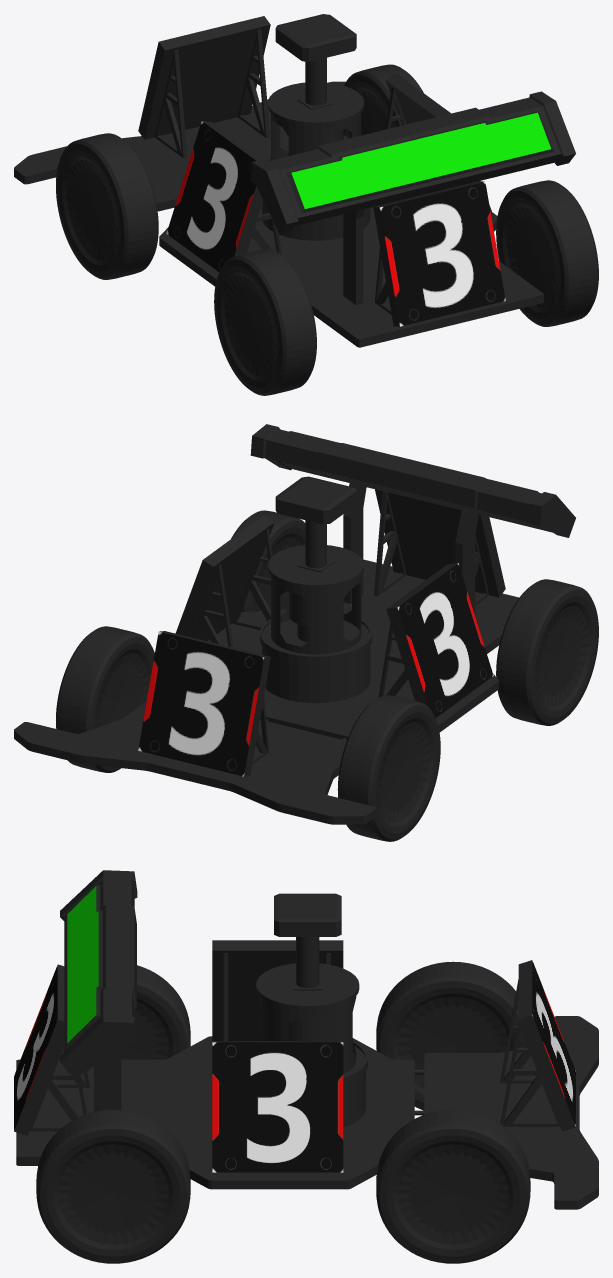
File: CarRed.glb
The picture shows the model from 3 angles, top to bottom: view 1: azimuth 30°, elevation 25°; view 2: azimuth 150°, elevation 25°; view 3: azimuth 270°, elevation 25°; orthographic projection. The views are drawn at different scales.
Parts seen in each view (by area): view 1: Cylinder.001, Cube.003, Cylinder, plate_front.001, Cube.002, plate_front.002, plate_front, Cube.001, Cylinder.003, Cube.011, Cube.004, Plane.001 (+4 smaller); view 2: Cylinder, Cube.001, plate_front, Cylinder.001, Cube.003, Cube.002, plate_front.002, Cylinder.003, Cylinder.002, plate_front.001, plate_front.003, Cube.004 (+7 smaller); view 3: Cylinder, Cylinder.001, Cube.002, plate_front.003, Cube.001, Cube.003, plate_front.002, Cylinder.003, plate_front, plate_front.001, Cube.011, Plane.001 (+7 smaller).
Boxes of the visible parts, x1=… form: Cylinder.001: x1=214, y1=180, x2=598, y2=395; Cube.003: x1=250, y1=91, x2=575, y2=233; Cylinder: x1=56, y1=64, x2=423, y2=279; plate_front.001: x1=373, y1=181, x2=505, y2=326; Cube.002: x1=159, y1=203, x2=543, y2=347; plate_front.002: x1=166, y1=121, x2=263, y2=272; plate_front: x1=138, y1=16, x2=270, y2=139; Cube.001: x1=14, y1=81, x2=348, y2=211; Cylinder.003: x1=268, y1=82, x2=363, y2=160; Cube.011: x1=275, y1=14, x2=356, y2=61; Cube.004: x1=343, y1=209, x2=364, y2=305; Plane.001: x1=237, y1=29, x2=270, y2=138; Cylinder: x1=56, y1=626, x2=440, y2=841; Cube.001: x1=14, y1=701, x2=376, y2=824; plate_front: x1=138, y1=631, x2=270, y2=776; Cylinder.001: x1=231, y1=510, x2=598, y2=725; Cube.003: x1=250, y1=424, x2=575, y2=537; Cube.002: x1=208, y1=559, x2=518, y2=740; plate_front.002: x1=386, y1=563, x2=493, y2=718; Cylinder.003: x1=268, y1=545, x2=363, y2=654; Cylinder.002: x1=260, y1=612, x2=372, y2=703; plate_front.001: x1=375, y1=489, x2=505, y2=597; plate_front.003: x1=175, y1=515, x2=274, y2=641; Cube.004: x1=343, y1=478, x2=478, y2=615; Cylinder: x1=376, y1=961, x2=530, y2=1263; Cylinder.001: x1=36, y1=965, x2=190, y2=1263; Cube.002: x1=16, y1=1036, x2=414, y2=1189; plate_front.003: x1=212, y1=1041, x2=343, y2=1172; Cube.001: x1=424, y1=1016, x2=598, y2=1209; Cube.003: x1=60, y1=870, x2=137, y2=1078; plate_front.002: x1=212, y1=940, x2=343, y2=1040; Cylinder.003: x1=256, y1=963, x2=359, y2=1073; plate_front: x1=518, y1=960, x2=575, y2=1131; plate_front.001: x1=14, y1=964, x2=64, y2=1135; Cube.011: x1=274, y1=893, x2=341, y2=936; Plane.001: x1=500, y1=1020, x2=560, y2=1126.
Size of the model in its own units: 0.45 by 0.3138 by 0.6025.
Materials: 3 (1 with a texture image).
